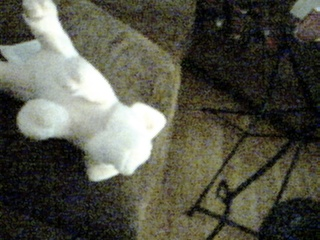piggy: (1, 1, 168, 184)
